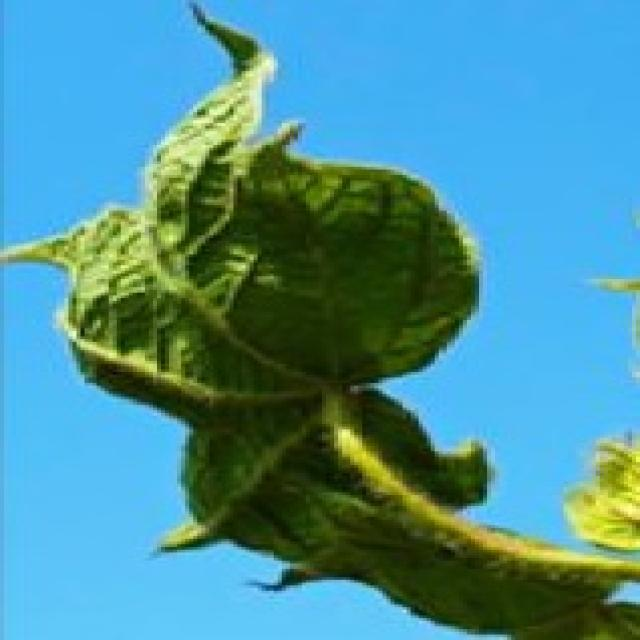Fusarium Wilt: (110, 87, 482, 595)
